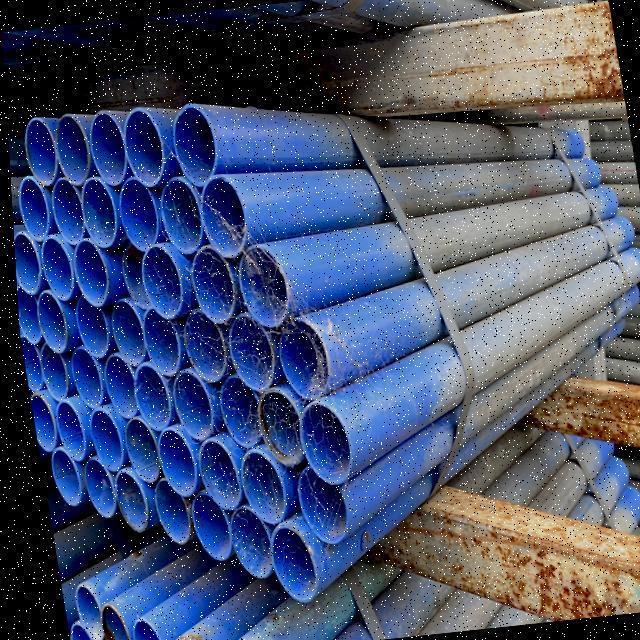pipe: (271, 322, 326, 408), (295, 408, 347, 490), (174, 309, 227, 389), (232, 247, 283, 329), (293, 468, 344, 550), (181, 477, 228, 565), (162, 372, 217, 443), (223, 314, 271, 395), (216, 368, 260, 456), (197, 173, 245, 253), (251, 388, 299, 467), (219, 500, 266, 580), (264, 528, 313, 604), (115, 174, 162, 253), (170, 105, 214, 189), (235, 451, 284, 526), (156, 176, 203, 253), (188, 248, 235, 324), (85, 109, 127, 193), (144, 467, 188, 547), (122, 105, 164, 188), (192, 438, 236, 515), (135, 241, 180, 315), (140, 311, 185, 383), (153, 429, 197, 502), (72, 287, 111, 367), (50, 171, 84, 257), (79, 170, 116, 249), (131, 365, 172, 436), (71, 452, 113, 521), (120, 419, 160, 491), (104, 301, 143, 374), (102, 353, 136, 431), (106, 466, 146, 532), (64, 347, 104, 412), (23, 115, 59, 185), (47, 115, 85, 181), (34, 284, 68, 357), (71, 241, 108, 308), (84, 408, 122, 473), (32, 343, 68, 404), (34, 238, 69, 299), (15, 178, 48, 242), (54, 407, 87, 471), (118, 242, 146, 317), (45, 448, 79, 509), (25, 390, 55, 455), (11, 232, 38, 296), (15, 332, 40, 394), (67, 585, 95, 640), (13, 284, 37, 342), (91, 605, 122, 640), (125, 622, 149, 640), (64, 628, 83, 640)
